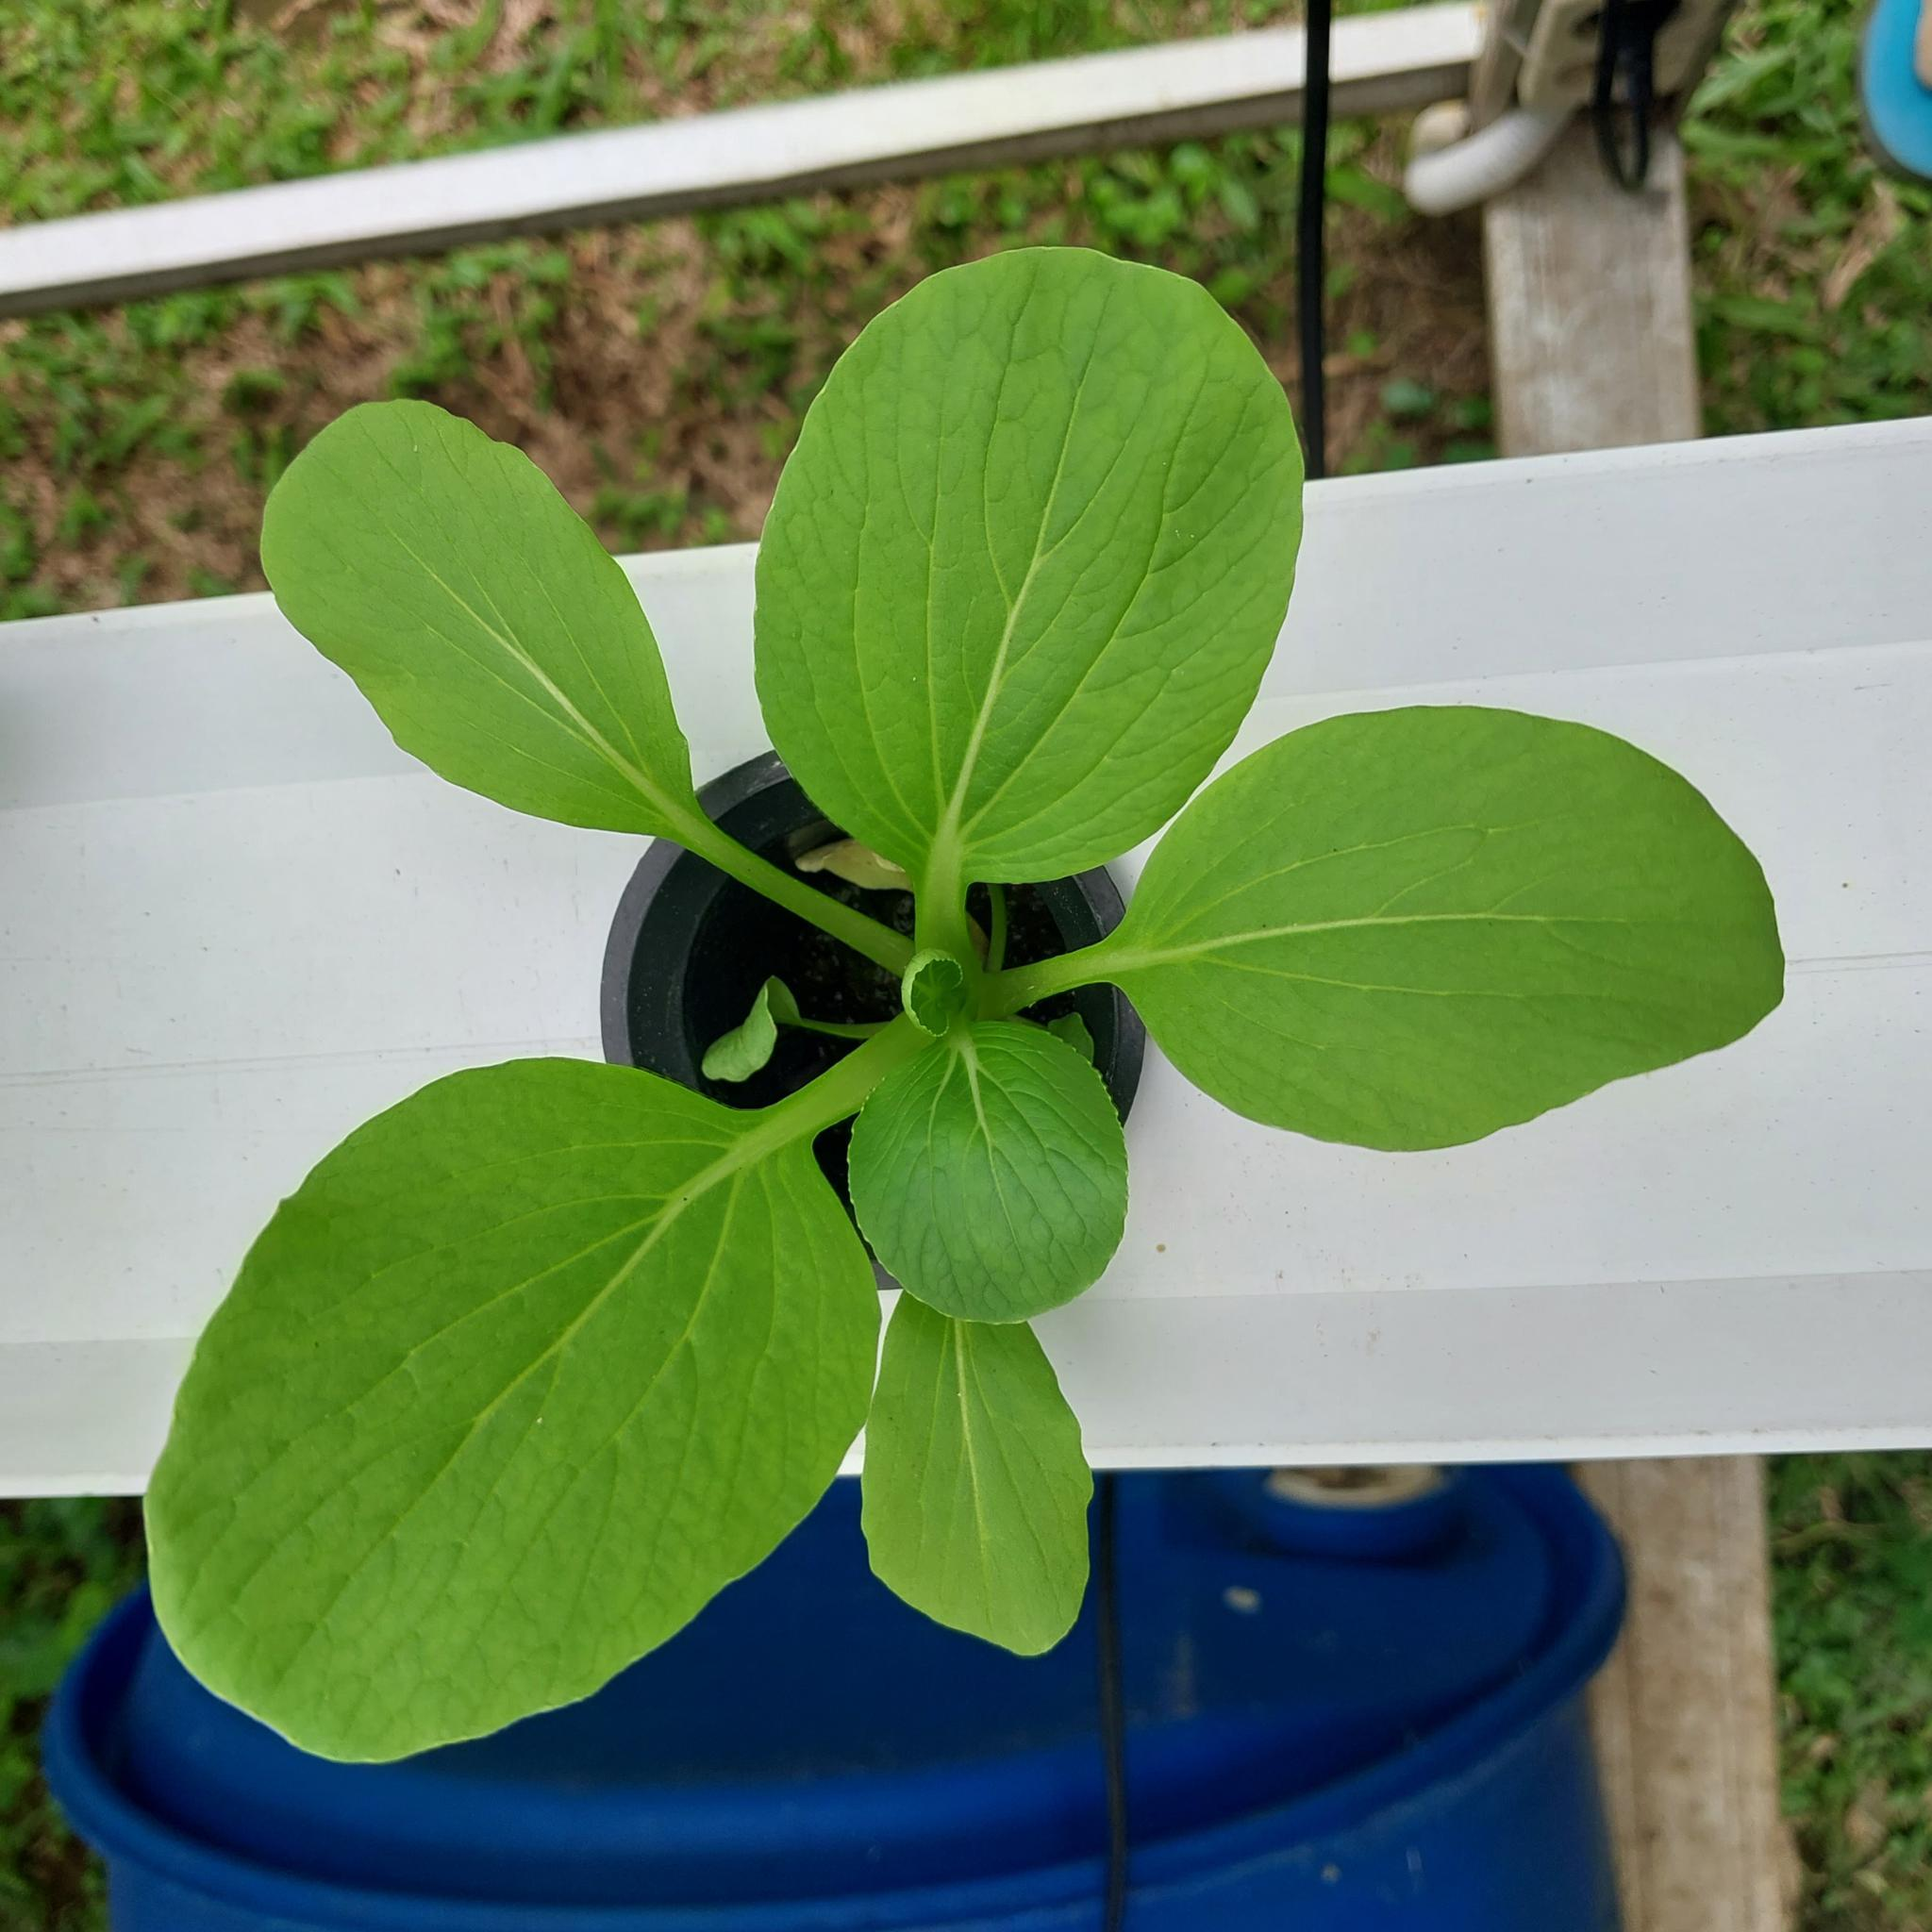Healthy-Pechay: (207, 977, 915, 1840), (768, 244, 1279, 902), (1104, 720, 1783, 1139), (248, 393, 775, 901), (842, 991, 1152, 1640), (1688, 32, 1821, 129), (580, 476, 697, 548)
